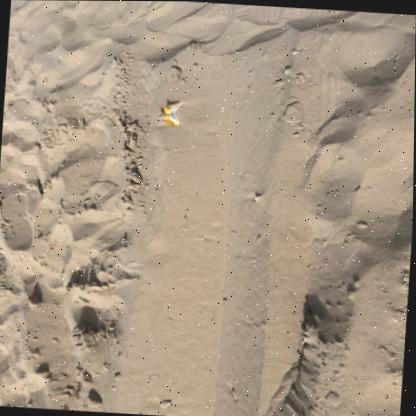Plastic: (157, 100, 182, 124), (38, 177, 43, 193)
